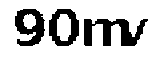0: (48, 5, 82, 52)
9: (13, 6, 47, 48)
m: (83, 14, 129, 51)
v: (118, 17, 147, 49)
